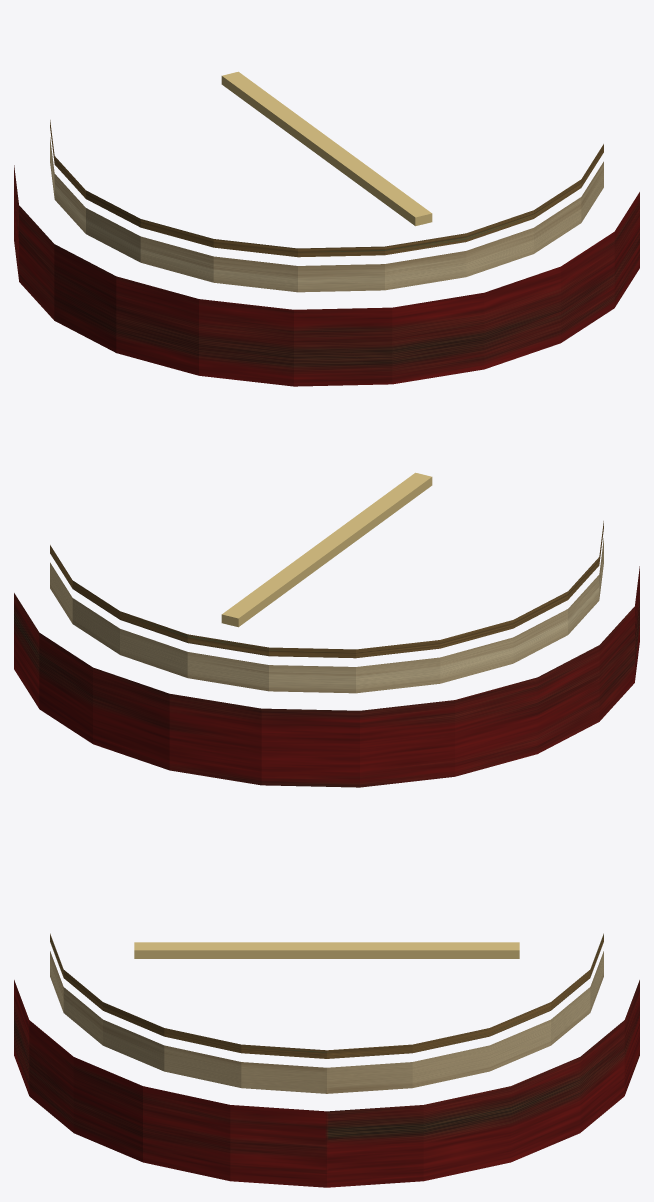
File: luopan.glb
The picture shows the model from 3 angles, top to bottom: view 1: azimuth 30°, elevation 25°; view 2: azimuth 150°, elevation 25°; view 3: azimuth 270°, elevation 25°; orthographic projection.
Visible parts, largest first — view 1: Case, Dial, Glass, Needle; view 2: Case, Dial, Glass, Needle; view 3: Case, Dial, Needle, Glass.
Boxes of the visible parts, left/top/right/bottom form: Case: left=14, top=165, right=639, bottom=386; Dial: left=50, top=137, right=603, bottom=292; Glass: left=50, top=120, right=603, bottom=257; Needle: left=221, top=71, right=432, bottom=226; Case: left=14, top=566, right=639, bottom=787; Dial: left=50, top=538, right=603, bottom=693; Glass: left=50, top=521, right=603, bottom=658; Needle: left=221, top=472, right=432, bottom=627; Case: left=14, top=980, right=639, bottom=1187; Dial: left=50, top=951, right=603, bottom=1093; Needle: left=134, top=942, right=519, bottom=958; Glass: left=50, top=933, right=603, bottom=1058.
Bounding box in the file's own units: 0.26 × 0.056 × 0.26.
Materials: 4 (3 with a texture image).
